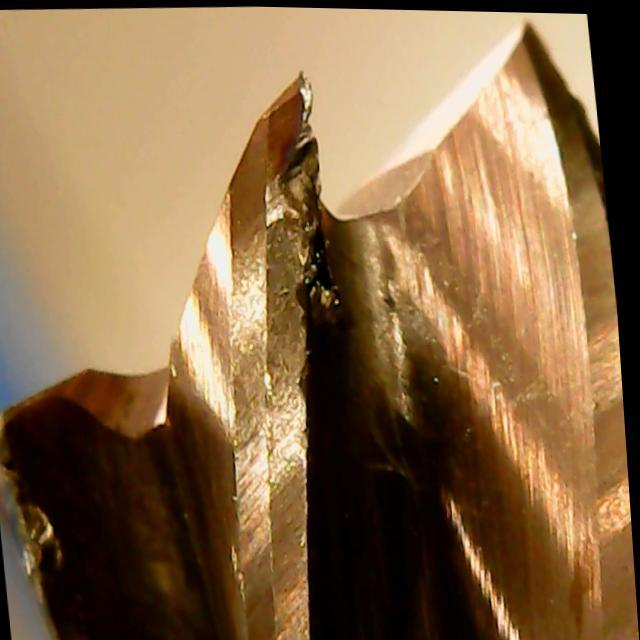Tool-wear-class-2: (193, 63, 367, 318)
